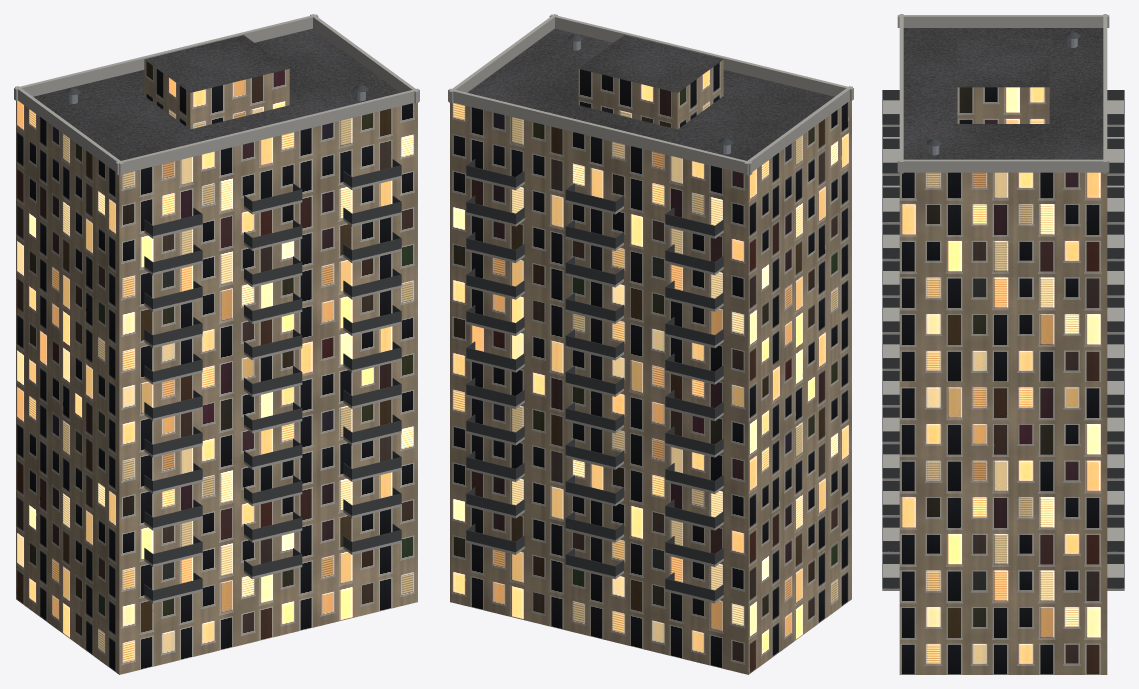
File: building_09.glb
The picture shows the model from 3 angles, left to right: view 1: azimuth 30°, elevation 25°; view 2: azimuth 150°, elevation 25°; view 3: azimuth 270°, elevation 25°; orthographic projection.
Parts seen in each view (by area): view 1: Render; view 2: Render; view 3: Render.
Boxes of the visible parts, x1,y1,x2,y2 form: Render: (14, 14, 419, 674); Render: (448, 14, 853, 674); Render: (882, 14, 1124, 674).
Bounding box in the file's own units: 30.35 × 51.5 × 21.
5 materials, 2 textured.
